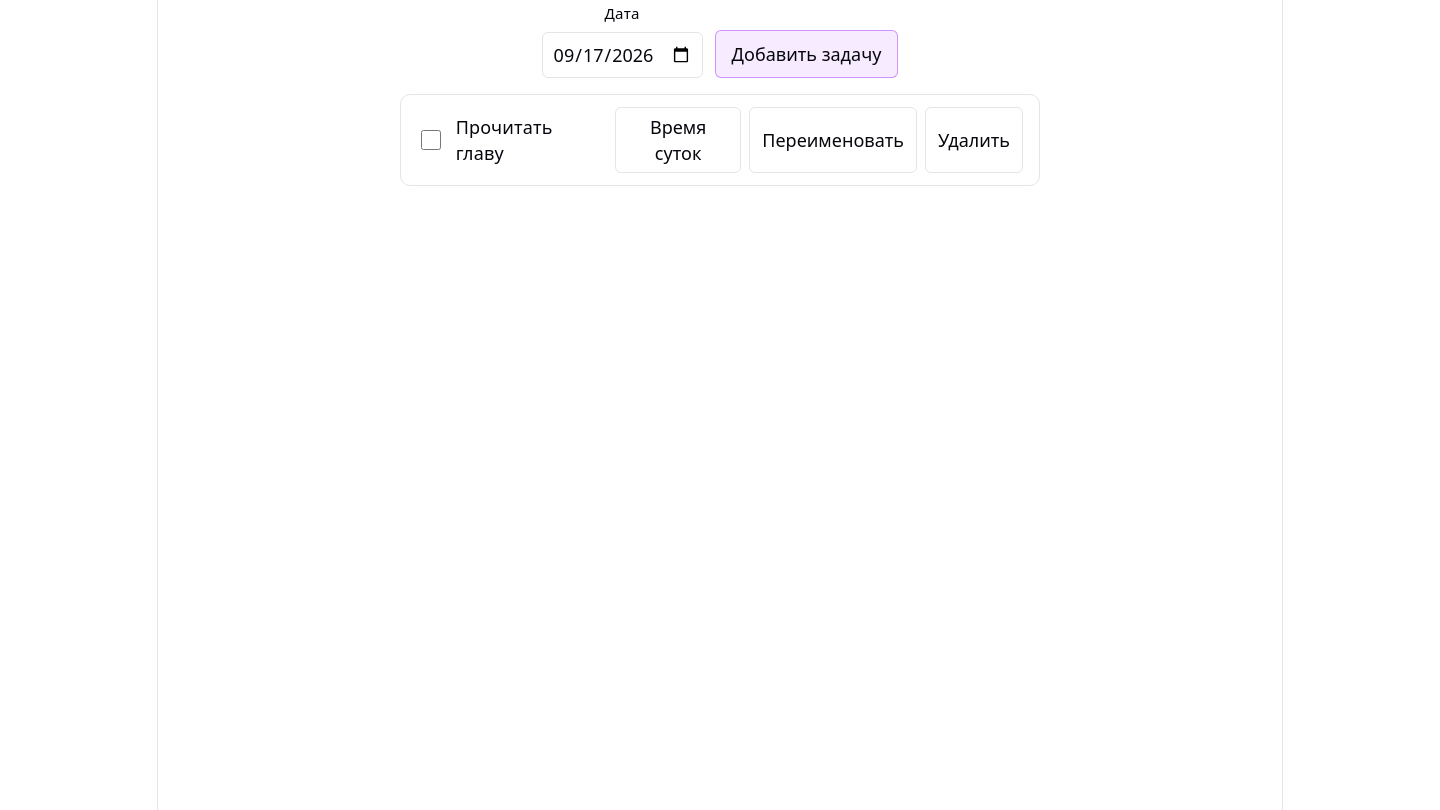
Test case: TasksTab › удаляет задачу после подтверждения
The image size is (1440, 810).
Expected: the text "Прочитать главу" is shown, [456, 115, 553, 165]
Click the button with aria-label "Удалить Прочитать главу" at (974, 140), box [925, 107, 1023, 173]
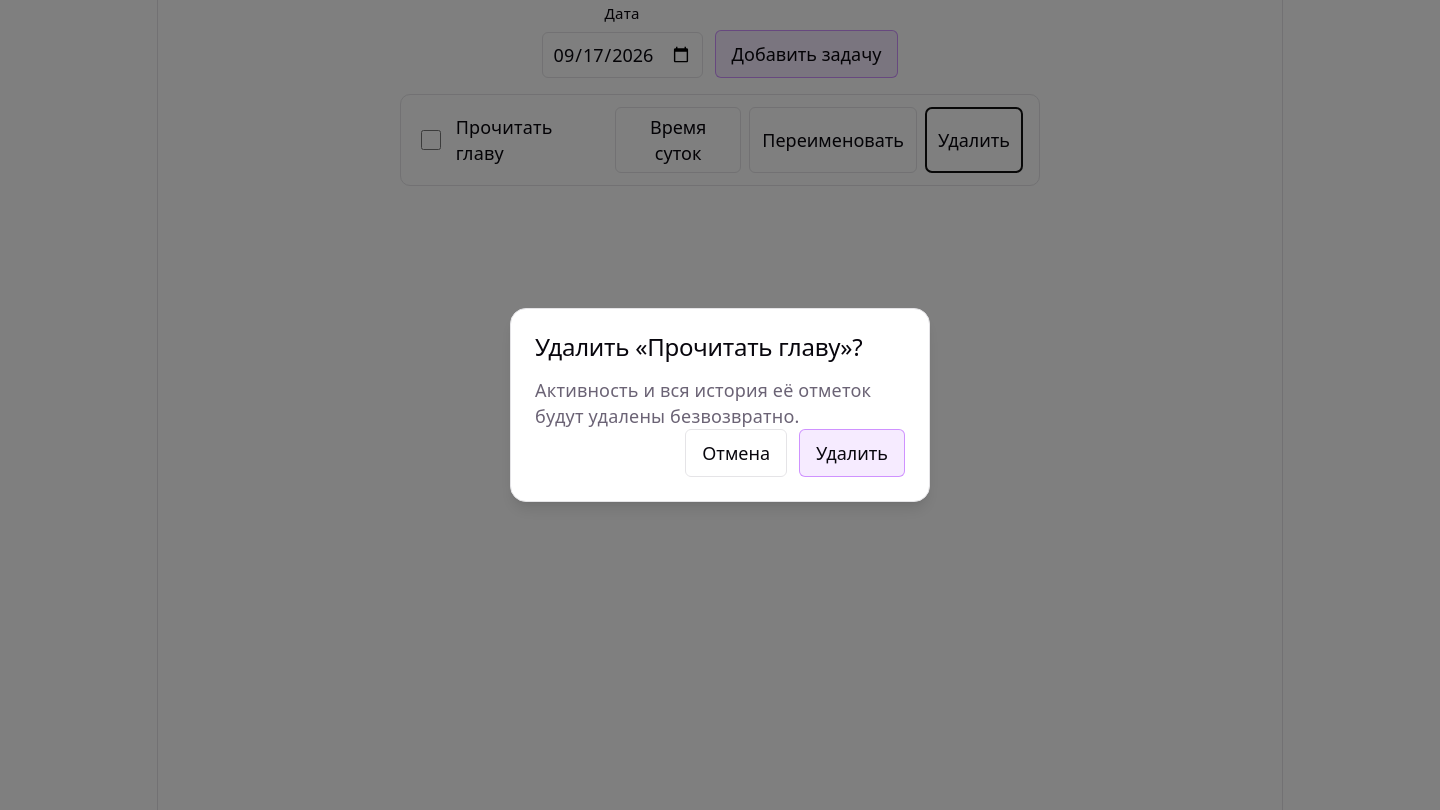
Click the button "Удалить" at (852, 453), box [799, 429, 905, 477]
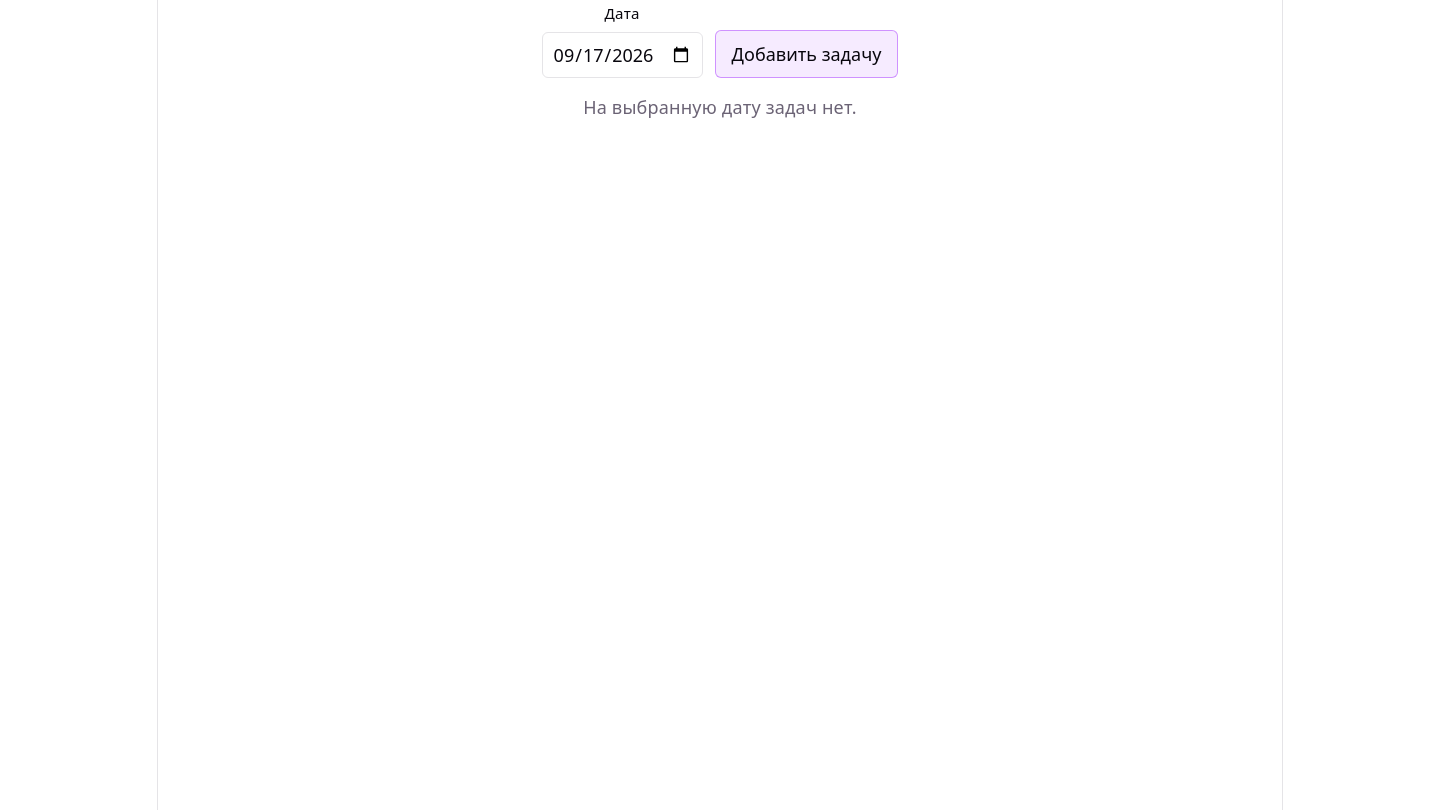
Expected: the text "Прочитать главу" is gone
